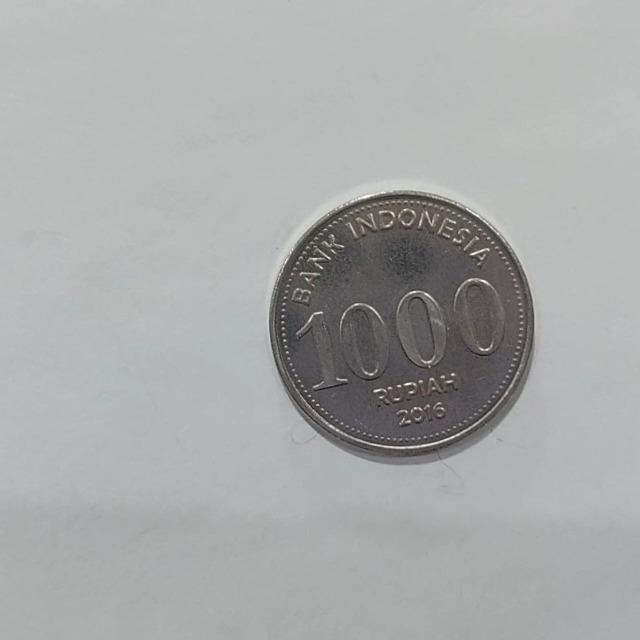Rp100: (266, 187, 536, 464)
